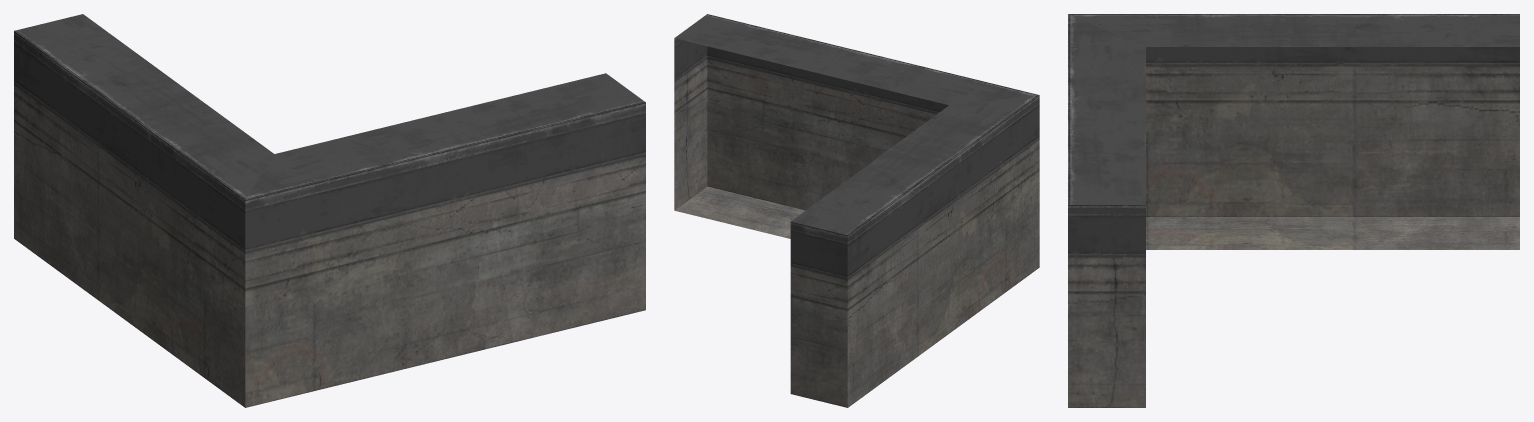
Rendered from CP_Cornice_B_Angle_Out.fbx.
3 views of the same model, side by side, from view 1: azimuth 30°, elevation 25°; view 2: azimuth 150°, elevation 25°; view 3: azimuth 270°, elevation 25° (orthographic). The views are drawn at different scales.
Parts seen in each view (by area): view 1: CP_Cornice_B_Angle_Out; view 2: CP_Cornice_B_Angle_Out; view 3: CP_Cornice_B_Angle_Out.
Part boxes in pixels (x1,y1,x2,y2): CP_Cornice_B_Angle_Out: (14, 14, 645, 407); CP_Cornice_B_Angle_Out: (674, 14, 1039, 407); CP_Cornice_B_Angle_Out: (1068, 14, 1519, 407).
Size of the model in its own units: 121 by 59.9 by 121.
